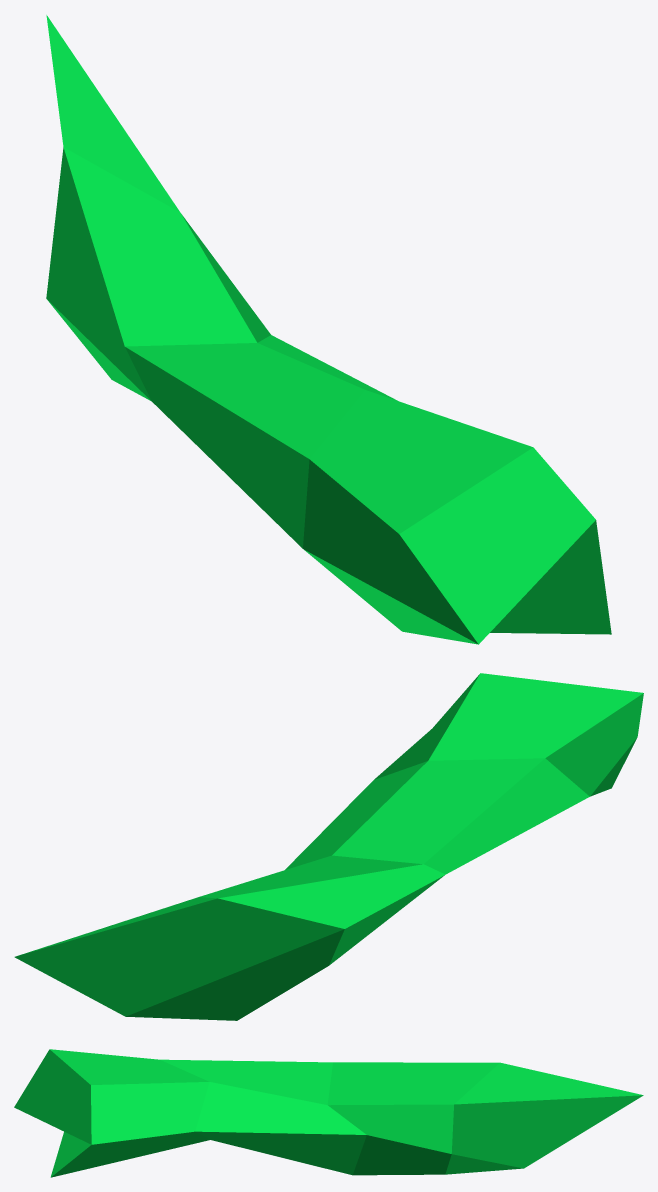
File: Grass2.fbx
3 views of the same model, one above another, from view 1: azimuth 30°, elevation 25°; view 2: azimuth 150°, elevation 25°; view 3: azimuth 270°, elevation 25° (orthographic). The views are drawn at different scales.
Parts seen in each view (by area): view 1: Cube; view 2: Cube; view 3: Cube.
Boxes of the visible parts, x1=… form: Cube: x1=46, y1=15, x2=611, y2=644; Cube: x1=14, y1=673, x2=643, y2=1020; Cube: x1=14, y1=1049, x2=643, y2=1177.
Size of the model in its own units: 55.89 by 44.14 by 240.
